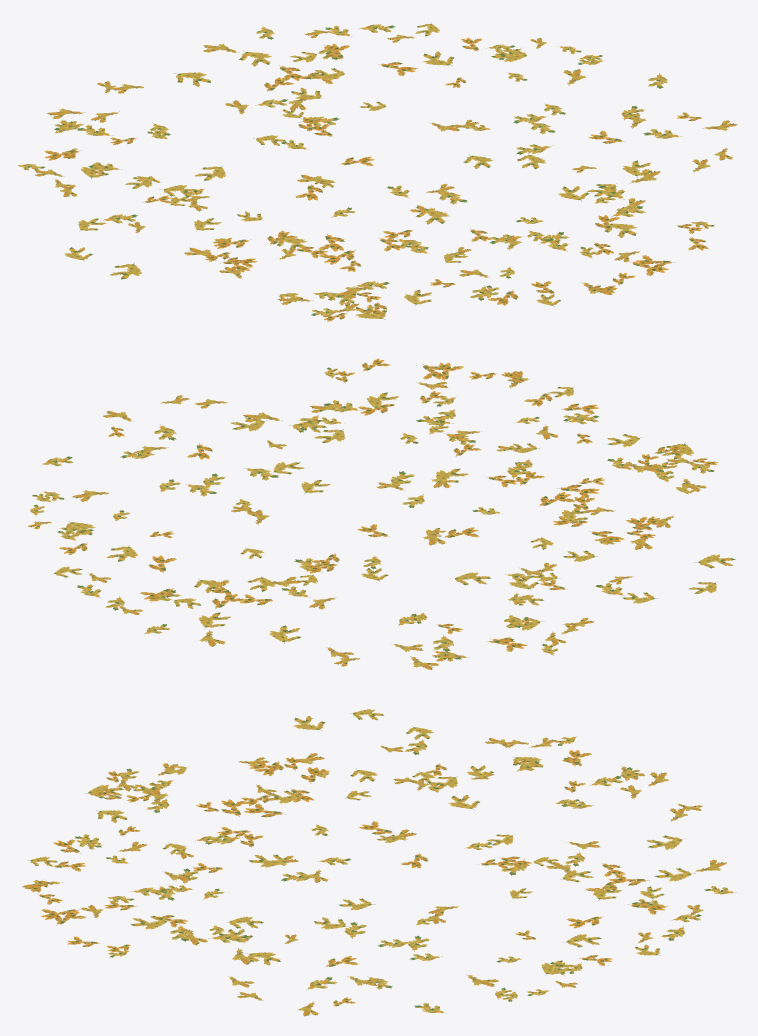
The model's file is bouleau_adulte_d.fbx.
3 views of the same model, one above another, from view 1: azimuth 30°, elevation 25°; view 2: azimuth 150°, elevation 25°; view 3: azimuth 270°, elevation 25° (orthographic). The views are drawn at different scales.
Parts seen in each view (by area): view 1: bouleau_adulte_d_feuilles_sol; view 2: bouleau_adulte_d_feuilles_sol; view 3: bouleau_adulte_d_feuilles_sol.
Part boxes in pixels (<box>): bouleau_adulte_d_feuilles_sol: <box>18,22,737,321</box>; bouleau_adulte_d_feuilles_sol: <box>28,358,735,669</box>; bouleau_adulte_d_feuilles_sol: <box>22,709,736,1016</box>.
Size of what is drawn, in the model's own units: 7.05 by 0.00594 by 6.88.
